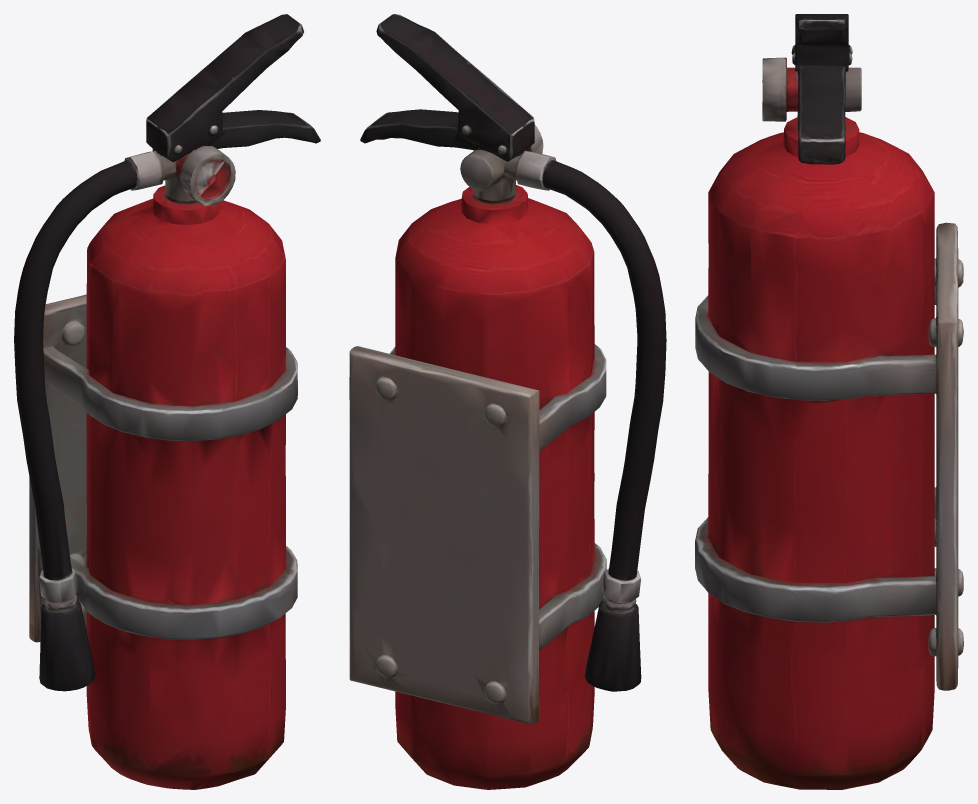
File: decor_extinguisher_2_idle.glb
3 renders of one model, left to right at view 1: azimuth 30°, elevation 25°; view 2: azimuth 150°, elevation 25°; view 3: azimuth 270°, elevation 25°, orthographic. The views are drawn at different scales.
Parts seen in each view (by area): view 1: tripo_node_aee764d5-3698-4b95-906f-47af2ee31532; view 2: tripo_node_aee764d5-3698-4b95-906f-47af2ee31532; view 3: tripo_node_aee764d5-3698-4b95-906f-47af2ee31532.
Boxes of the visible parts, left/top/right/bottom form: tripo_node_aee764d5-3698-4b95-906f-47af2ee31532: left=14, top=14, right=320, bottom=789; tripo_node_aee764d5-3698-4b95-906f-47af2ee31532: left=349, top=14, right=666, bottom=789; tripo_node_aee764d5-3698-4b95-906f-47af2ee31532: left=695, top=14, right=963, bottom=789.
Bounding box in the file's own units: 0.2617 × 0.6 × 0.1847.
1 material, 1 textured.
